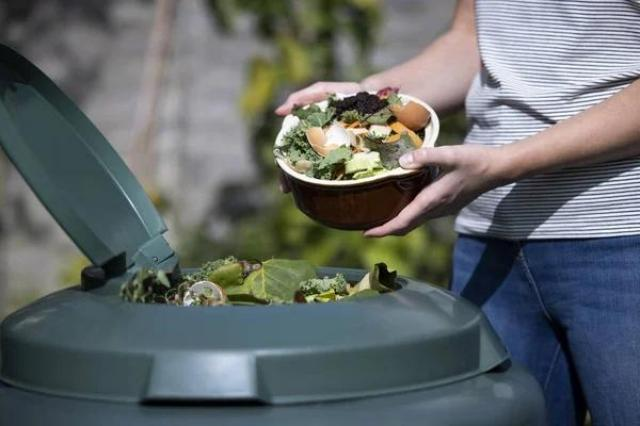Garbage: (116, 264, 408, 316), (278, 91, 434, 184)
